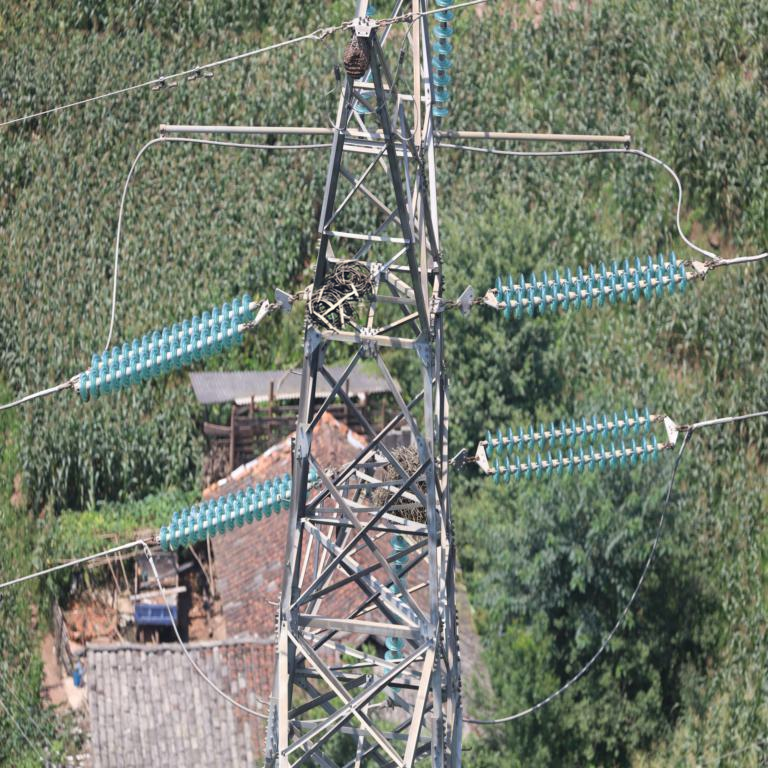nest: (376, 444, 439, 525), (310, 261, 373, 326)
